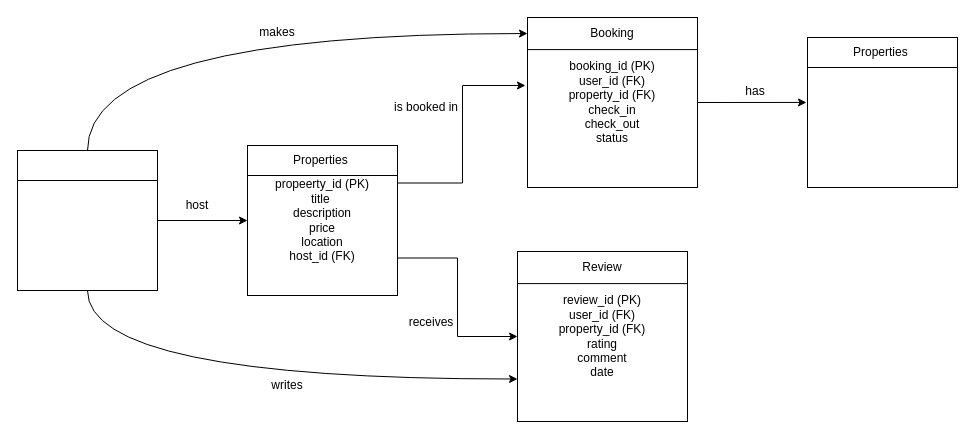
The diagram is 975 pixels wide and 439 high, and some of its shapes have lost their labels. The box of each missing label's shape, as (x1, y1, x2, y2) in pixels:
payment_id (PK) booking_id (FK) amount payment_date status: (806, 36, 958, 188)
user_id (PK) name email password role(guest/host): (16, 150, 158, 290)
Users: (16, 150, 158, 180)
